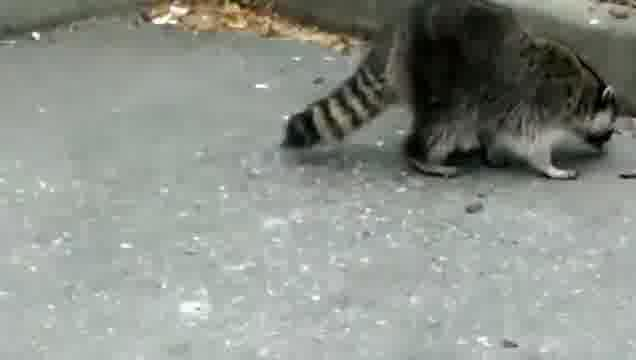raccoon: (284, 0, 619, 179)
